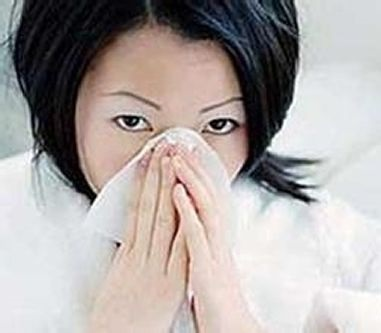face: (82, 36, 249, 238)
